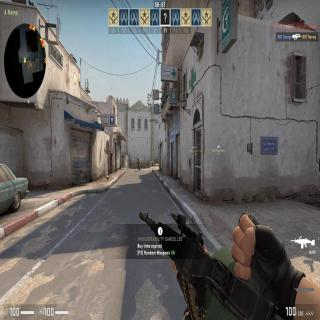CT-Body: (136, 158, 141, 172)
CT-Head: (137, 157, 139, 160)
